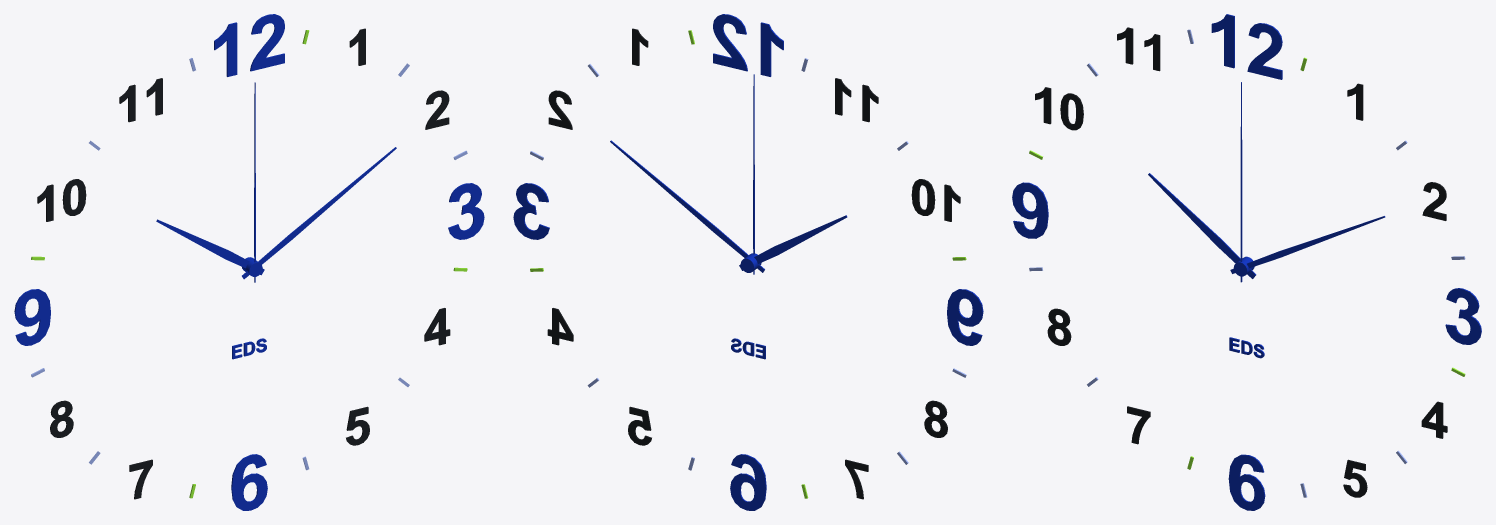
Rendered from wallClock-3.glb.
3 renders of one model, left to right at view 1: azimuth 30°, elevation 25°; view 2: azimuth 150°, elevation 25°; view 3: azimuth 330°, elevation 25°, orthographic.
Parts seen in each view (by area): view 1: Clock_EDS_blue, Clock_graphite, Clock_minute_hand_blade, Clock_hour_hand_blade; view 2: Clock_EDS_blue, Clock_graphite, Clock_minute_hand_blade, Clock_hour_hand_blade; view 3: Clock_EDS_blue, Clock_graphite, Clock_hour_hand_blade, Clock_minute_hand_blade.
Boxes of the visible parts, left/top/right/bottom form: Clock_EDS_blue: left=14, top=14, right=484, bottom=510; Clock_graphite: left=37, top=28, right=450, bottom=499; Clock_minute_hand_blade: left=242, top=147, right=396, bottom=279; Clock_hour_hand_blade: left=156, top=219, right=264, bottom=275; Clock_EDS_blue: left=513, top=14, right=983, bottom=510; Clock_graphite: left=547, top=28, right=960, bottom=499; Clock_minute_hand_blade: left=610, top=140, right=764, bottom=272; Clock_hour_hand_blade: left=739, top=215, right=847, bottom=270; Clock_EDS_blue: left=1012, top=14, right=1481, bottom=510; Clock_graphite: left=1035, top=27, right=1447, bottom=497; Clock_hour_hand_blade: left=1148, top=173, right=1256, bottom=278; Clock_minute_hand_blade: left=1230, top=216, right=1385, bottom=273.
Bounding box in the file's own units: 1.25 × 1.25 × 0.035.
